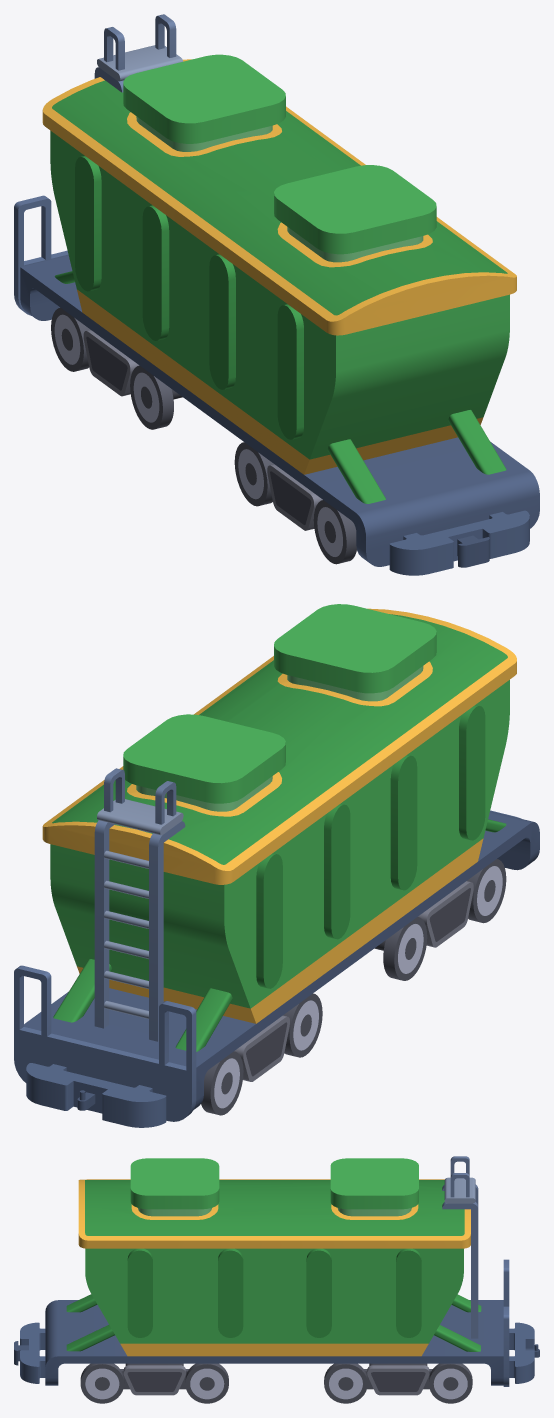
The model's file is Wagon Hopper.fbx.
3 renders of one model, top to bottom at view 1: azimuth 30°, elevation 25°; view 2: azimuth 150°, elevation 25°; view 3: azimuth 270°, elevation 25°, orthographic. The views are drawn at different scales.
Visible parts, largest first — view 1: Wagon Hopper, Wagon Hopper Cover, Wagon Hopper Carrier Cover.001, Wagon Hopper Wheel.004, Wagon Hopper Wheel.001, Wagon Hopper Wheel.003, Wagon Hopper Wheel, Wagon Hopper Wheel.002, Wagon Hopper Wheel.005; view 2: Wagon Hopper, Wagon Hopper Cover, Wagon Hopper Carrier Cover.001, Wagon Hopper Wheel.002, Wagon Hopper Wheel, Wagon Hopper Wheel.003, Wagon Hopper Wheel.005, Wagon Hopper Wheel.004, Wagon Hopper Wheel.001; view 3: Wagon Hopper, Wagon Hopper Cover, Wagon Hopper Carrier Cover.001, Wagon Hopper Wheel.003, Wagon Hopper Wheel, Wagon Hopper Wheel.005, Wagon Hopper Wheel.002, Wagon Hopper Wheel.004, Wagon Hopper Wheel.001.
Boxes of the visible parts, x1,y1,x2,y2 form: Wagon Hopper: (14,14,539,575); Wagon Hopper Cover: (274,165,436,254); Wagon Hopper Carrier Cover.001: (123,54,285,143); Wagon Hopper Wheel.004: (130,365,182,429); Wagon Hopper Wheel.001: (313,500,356,564); Wagon Hopper Wheel.003: (83,329,139,396); Wagon Hopper Wheel: (267,464,322,530); Wagon Hopper Wheel.002: (234,442,273,506); Wagon Hopper Wheel.005: (51,307,90,371); Wagon Hopper: (14,608,539,1127); Wagon Hopper Cover: (274,604,436,693); Wagon Hopper Carrier Cover.001: (123,714,285,803); Wagon Hopper Wheel.002: (374,917,427,980); Wagon Hopper Wheel: (418,881,473,947); Wagon Hopper Wheel.003: (234,1015,289,1081); Wagon Hopper Wheel.005: (201,1051,243,1115); Wagon Hopper Wheel.004: (283,993,322,1057); Wagon Hopper Wheel.001: (467,859,506,923); Wagon Hopper: (14,1156,539,1386); Wagon Hopper Cover: (130,1158,219,1209); Wagon Hopper Carrier Cover.001: (330,1158,418,1209); Wagon Hopper Wheel.003: (364,1363,432,1395); Wagon Hopper Wheel: (120,1363,188,1395); Wagon Hopper Wheel.005: (429,1363,472,1403); Wagon Hopper Wheel.002: (185,1363,228,1403); Wagon Hopper Wheel.004: (324,1363,367,1403); Wagon Hopper Wheel.001: (80,1363,124,1403).
Size of the model in its own units: 2.81 by 4.55 by 10.21.
